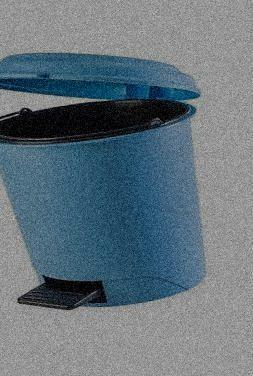Bote de Basura: (0, 51, 204, 314)
